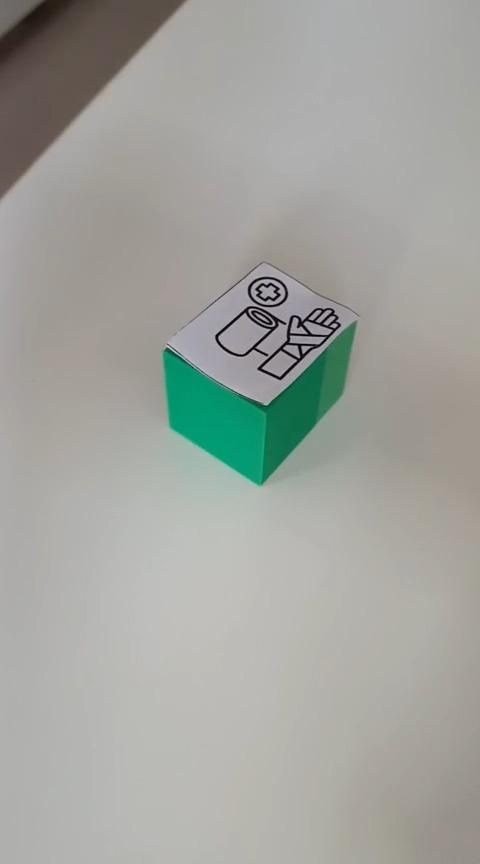Bandages: (161, 259, 360, 486)
